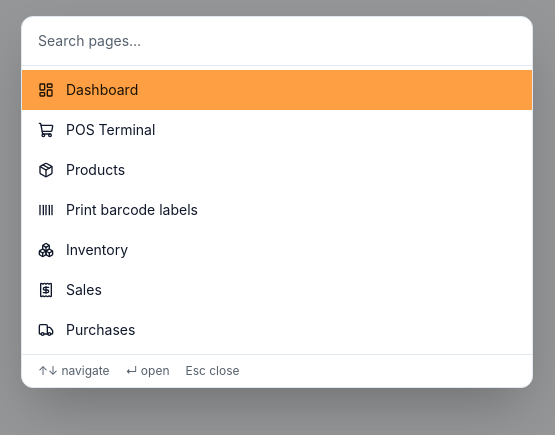
Test: CommandPalette › filters items by query
Type "account" into the field with placeholder "Search pages…" at [277, 42], box [22, 17, 532, 66]
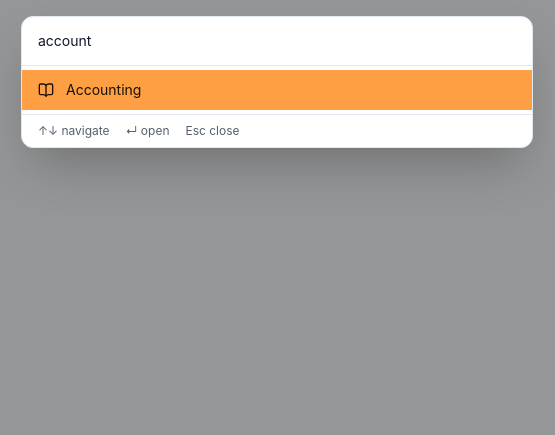
Expected: the button "Accounting" is shown, [22, 70, 532, 110]
Expected: the button "Dashboard" is gone
